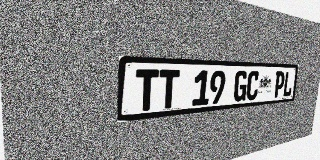1: (192, 70, 211, 106)
9: (209, 70, 226, 104)
C: (245, 71, 260, 101)
G: (233, 71, 248, 102)
L: (282, 71, 294, 97)
P: (273, 71, 285, 98)
T: (135, 69, 159, 112), (158, 70, 180, 109)
